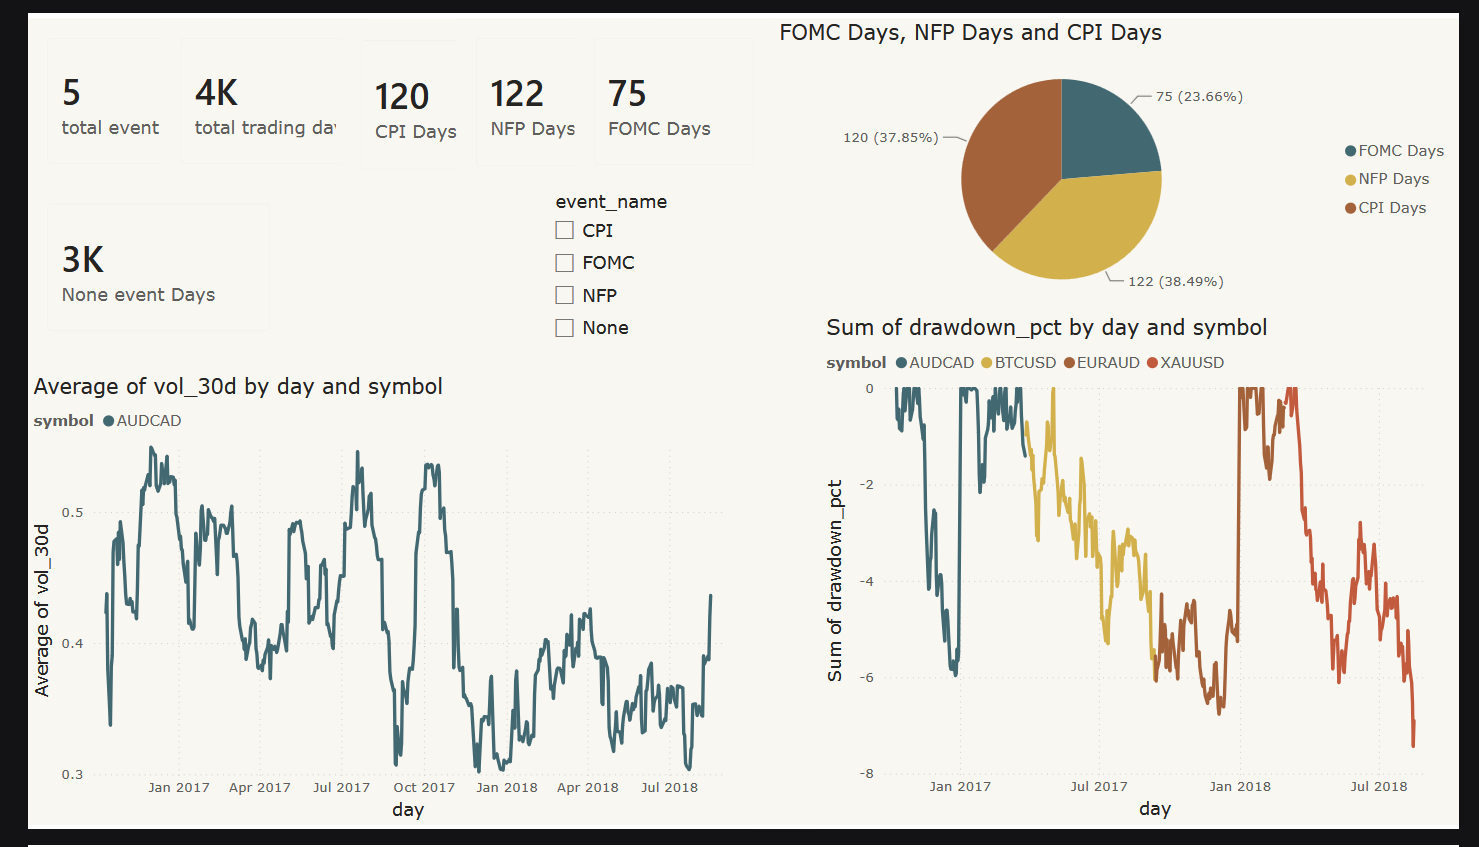

This screenshot's page, from the dashboard's own definition file:
{"tool":"powerbi","page":{"name":"analysis","canvas":[1280,720],"ordinal":1},"visuals":[{"type":"cardVisual","fields":{"Data":["fact table.total event Days"]},"box":[0,0,177.5,147.3],"z":0},{"type":"cardVisual","fields":{"Data":["fact table.total trading days"]},"box":[118.9,0,184.5,147.3],"z":1000},{"type":"cardVisual","fields":{"Data":["fact table.CPI Days"]},"box":[280.4,1.8,177.5,150.8],"z":2000},{"type":"cardVisual","fields":{"Data":["fact table.NFP Days"]},"box":[383.3,0,177.5,149.1],"z":3000},{"type":"cardVisual","fields":{"Data":["fact table.FOMC Days"]},"box":[488.1,0,178.1,148],"z":4000},{"type":"cardVisual","fields":{"Data":["fact table.None event Days"]},"box":[0,148,233.6,148],"z":5000},{"type":"lineChart","fields":{"Category":["fact table.day"],"Y":["Avg(forex_cascade vw_risk_metrics.vol_30d)"],"Series":["forex_cascade vw_risk_metrics.symbol"]},"box":[0,315.9,640.6,404.6],"z":6000},{"type":"pieChart","fields":{"Y":["fact table.FOMC Days","fact table.NFP Days","fact table.CPI Days"]},"box":[666.2,0,613,263.7],"z":7000},{"type":"lineChart","fields":{"Category":["fact table.day"],"Y":["Sum(forex_cascade vw_risk_metrics.drawdown_pct)"],"Series":["forex_cascade vw_monthly_performance.symbol"]},"box":[708,264.4,560.7,456],"z":8000},{"type":"slicer","fields":{"Values":["fact table.event_name"]},"box":[458,148,208.2,212.8],"z":9000}]}

Visuals, with their boxes in screenshot pixels (x1, y1, x2, y2), scaled from the page's 1280x720 canvas onto the 1479x847 screenshot:
cardVisual - fact table.total event Days: {"x1": 0, "y1": 0, "x2": 205, "y2": 173}
cardVisual - fact table.total trading days: {"x1": 137, "y1": 0, "x2": 351, "y2": 173}
cardVisual - fact table.CPI Days: {"x1": 324, "y1": 2, "x2": 529, "y2": 180}
cardVisual - fact table.NFP Days: {"x1": 443, "y1": 0, "x2": 648, "y2": 175}
cardVisual - fact table.FOMC Days: {"x1": 564, "y1": 0, "x2": 770, "y2": 174}
cardVisual - fact table.None event Days: {"x1": 0, "y1": 174, "x2": 270, "y2": 348}
lineChart - fact table.day x Avg(forex_cascade vw_risk_metrics.vol_30d): {"x1": 0, "y1": 372, "x2": 740, "y2": 846}
pieChart - fact table.FOMC Days x fact table.NFP Days: {"x1": 770, "y1": 0, "x2": 1478, "y2": 310}
lineChart - fact table.day x Sum(forex_cascade vw_risk_metrics.drawdown_pct): {"x1": 818, "y1": 311, "x2": 1466, "y2": 846}
slicer - fact table.event_name: {"x1": 529, "y1": 174, "x2": 770, "y2": 424}
